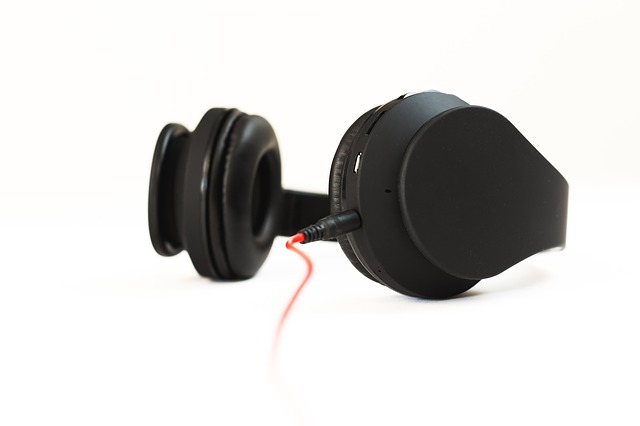headphones: (149, 91, 569, 301)
